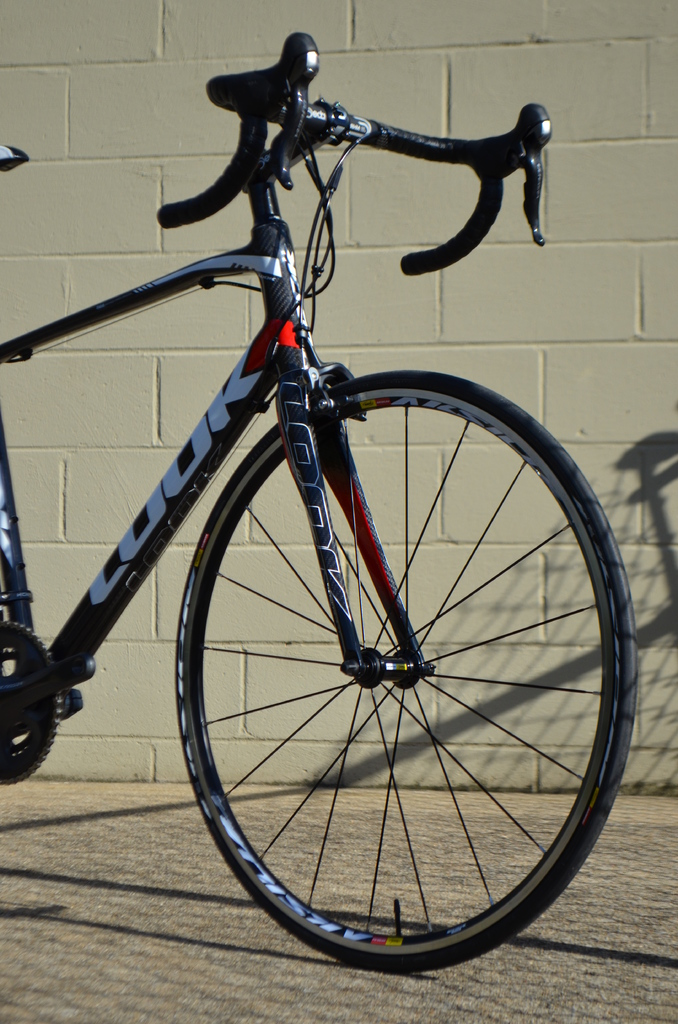Bicycle: (2, 30, 666, 992)
